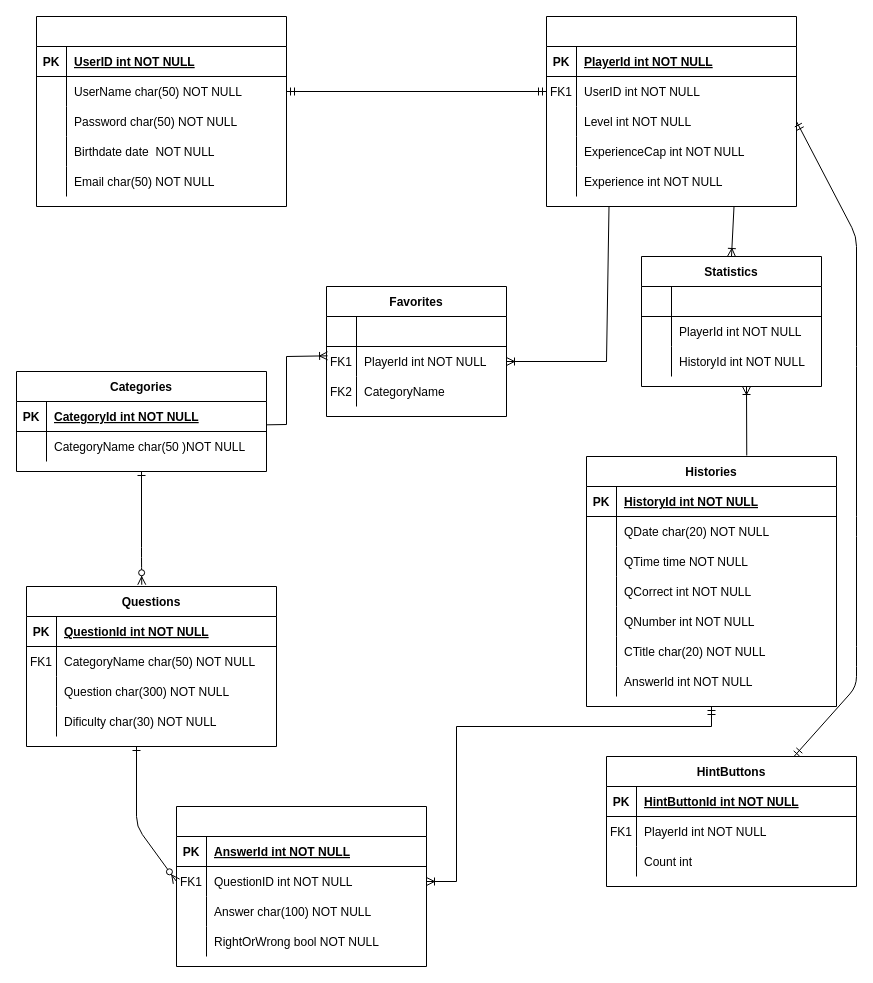
The diagram is 873 pixels wide and 983 high, and some of its shapes have lost their labels. The shapes that lost their labels are listed below. From the top down, each one's box as (x1, y1, x2, y2) in pixels, then its label:
(36, 16, 286, 206): Users
(546, 16, 796, 206): Players
(176, 806, 426, 966): Answers
